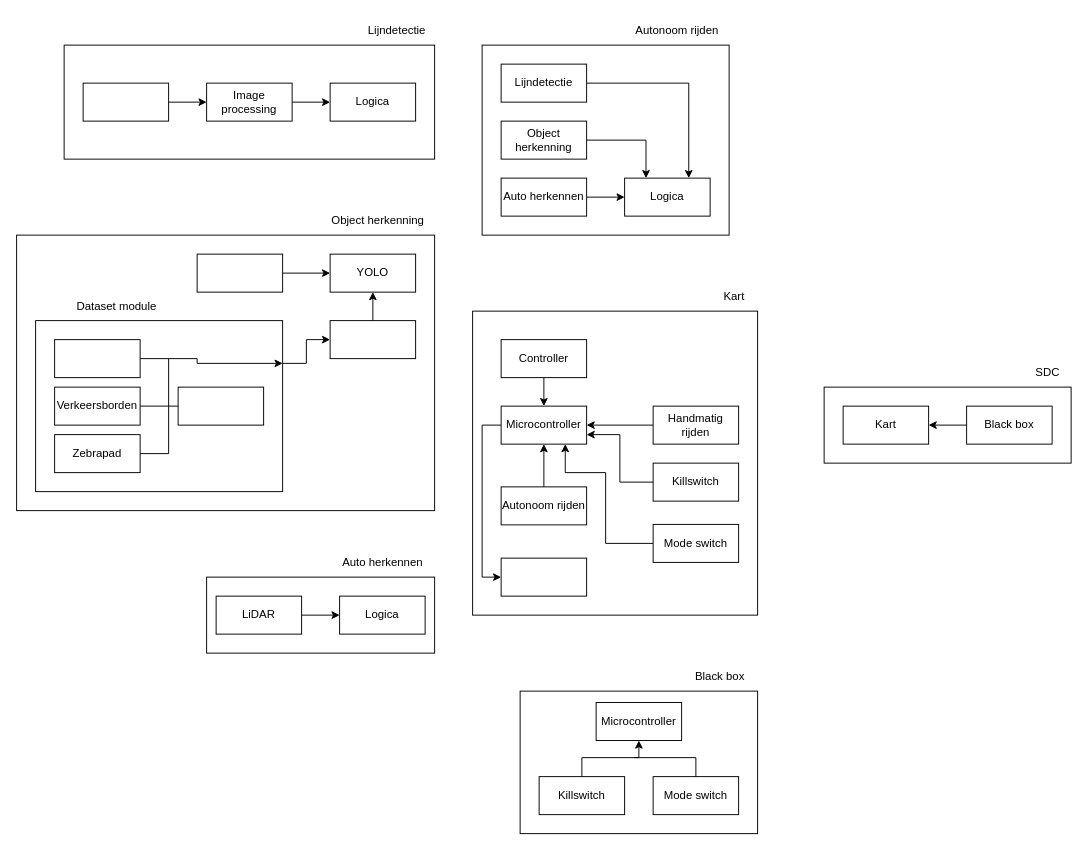
This 1088x850 diagram has some shape labels left out. The shapes that lost their labels are listed below. From the top down, each one's centre as x and y in pixels, then its label:
At [125,101]: "webcam".
At [239,272]: "Camera".
At [97,358]: "Verkeerslicht".
At [372,339]: "Model".
At [220,405]: "Voetgangers".
At [543,576]: "Autonoom etc".
